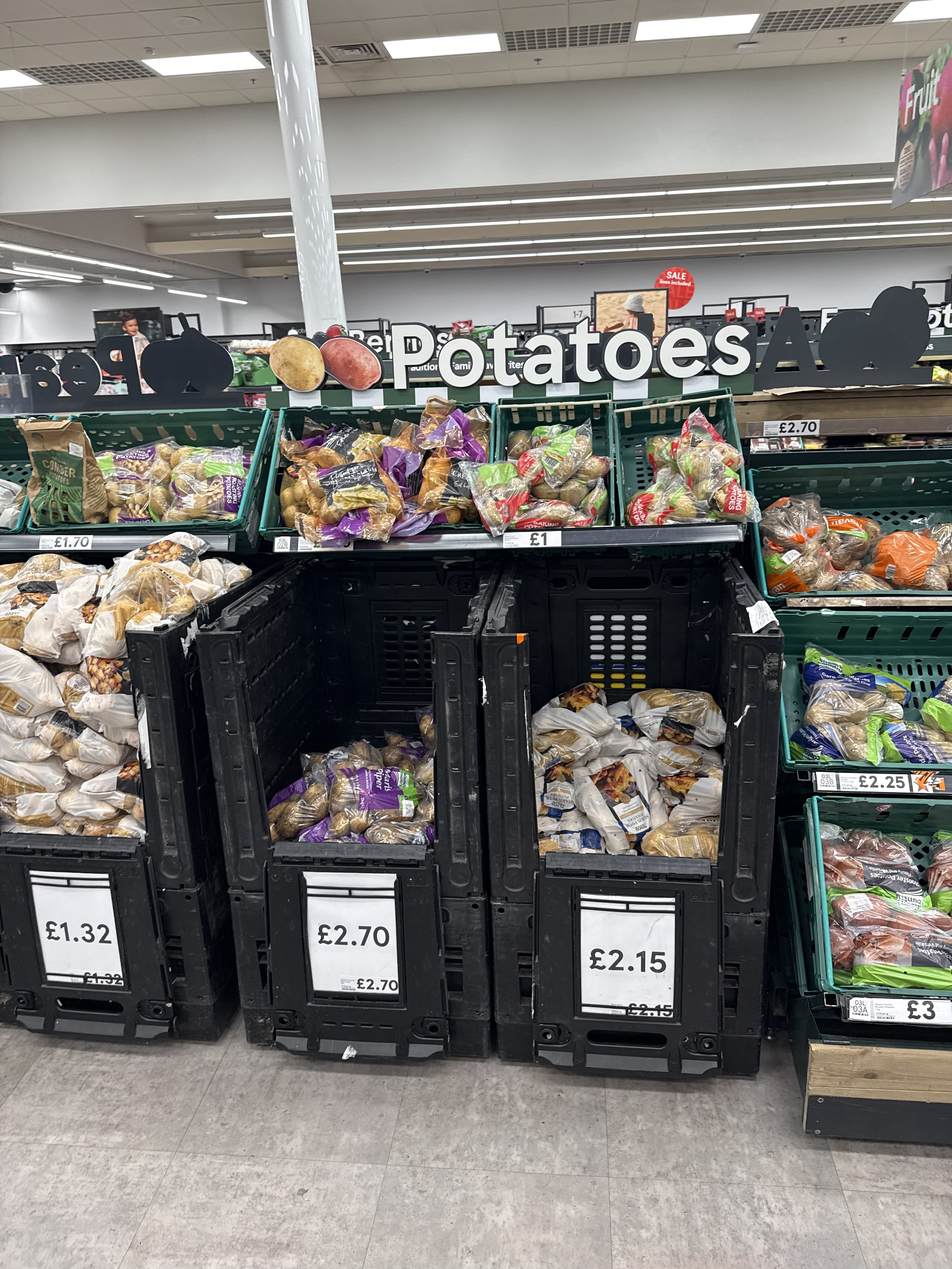medium: (873, 998, 952, 1023), (839, 773, 910, 793), (609, 999, 673, 1018), (339, 975, 399, 994), (763, 419, 820, 437), (503, 531, 562, 548), (69, 970, 124, 986), (39, 535, 93, 550)
